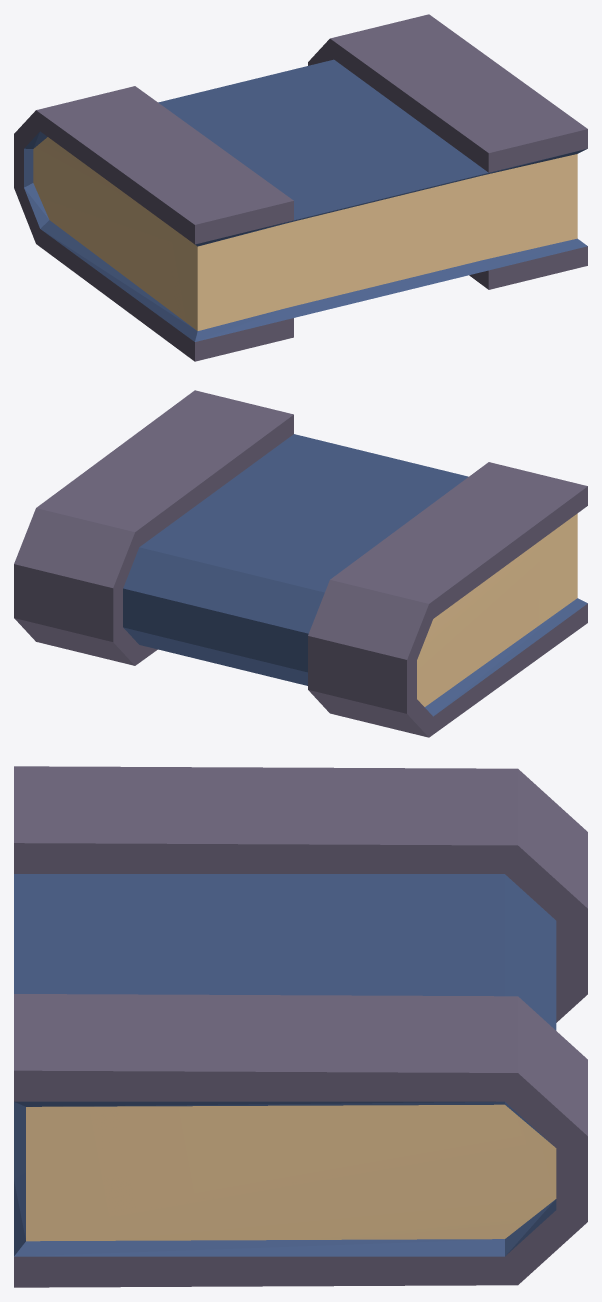
File: Book3.FBX
3 renders of one model, top to bottom at view 1: azimuth 30°, elevation 25°; view 2: azimuth 150°, elevation 25°; view 3: azimuth 270°, elevation 25°, orthographic. The views are drawn at different scales.
Visible parts, largest first — view 1: Book3; view 2: Book3; view 3: Book3.
Boxes of the visible parts, <box> form: Book3: <box>14,14,587,361</box>; Book3: <box>14,390,587,737</box>; Book3: <box>14,766,587,1287</box>.
Size of the model in its own units: 0.4206 by 0.1398 by 0.3353.
